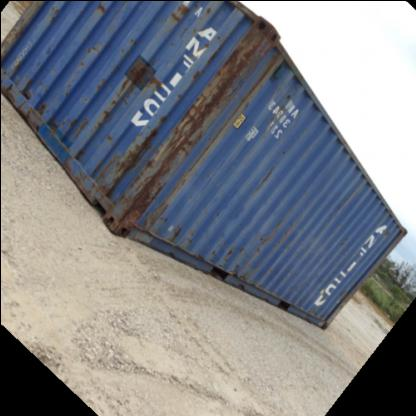Damage: (211, 20, 280, 112), (175, 79, 239, 177), (92, 147, 173, 223), (84, 64, 158, 138), (5, 76, 63, 140), (166, 1, 227, 51), (208, 235, 254, 282), (257, 218, 294, 250), (168, 221, 198, 249), (119, 24, 142, 57), (254, 160, 276, 190), (79, 36, 105, 57), (43, 4, 62, 26), (185, 58, 203, 76), (94, 3, 112, 19)
